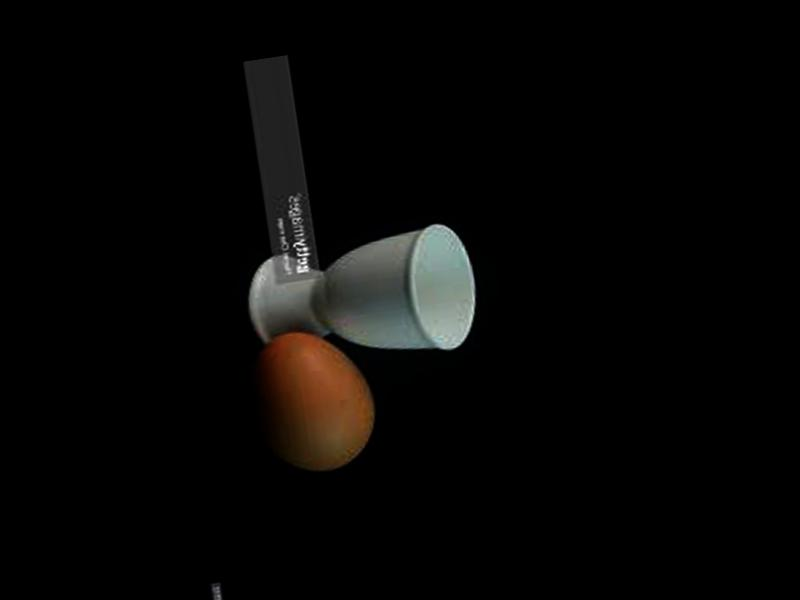Eggs: (248, 320, 383, 478)
